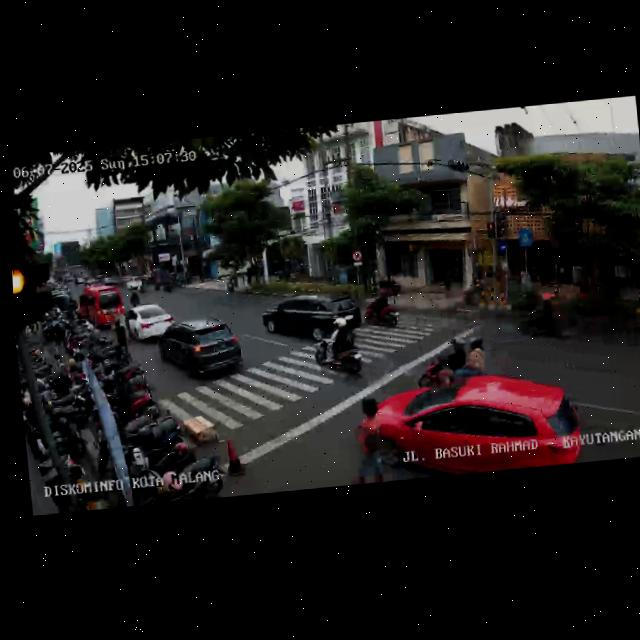car: (359, 367, 586, 483), (156, 315, 247, 385), (259, 288, 357, 347), (75, 282, 126, 331), (124, 301, 177, 346)
motorcycle: (418, 325, 489, 395), (311, 316, 369, 383), (363, 282, 402, 330), (128, 287, 141, 309)
